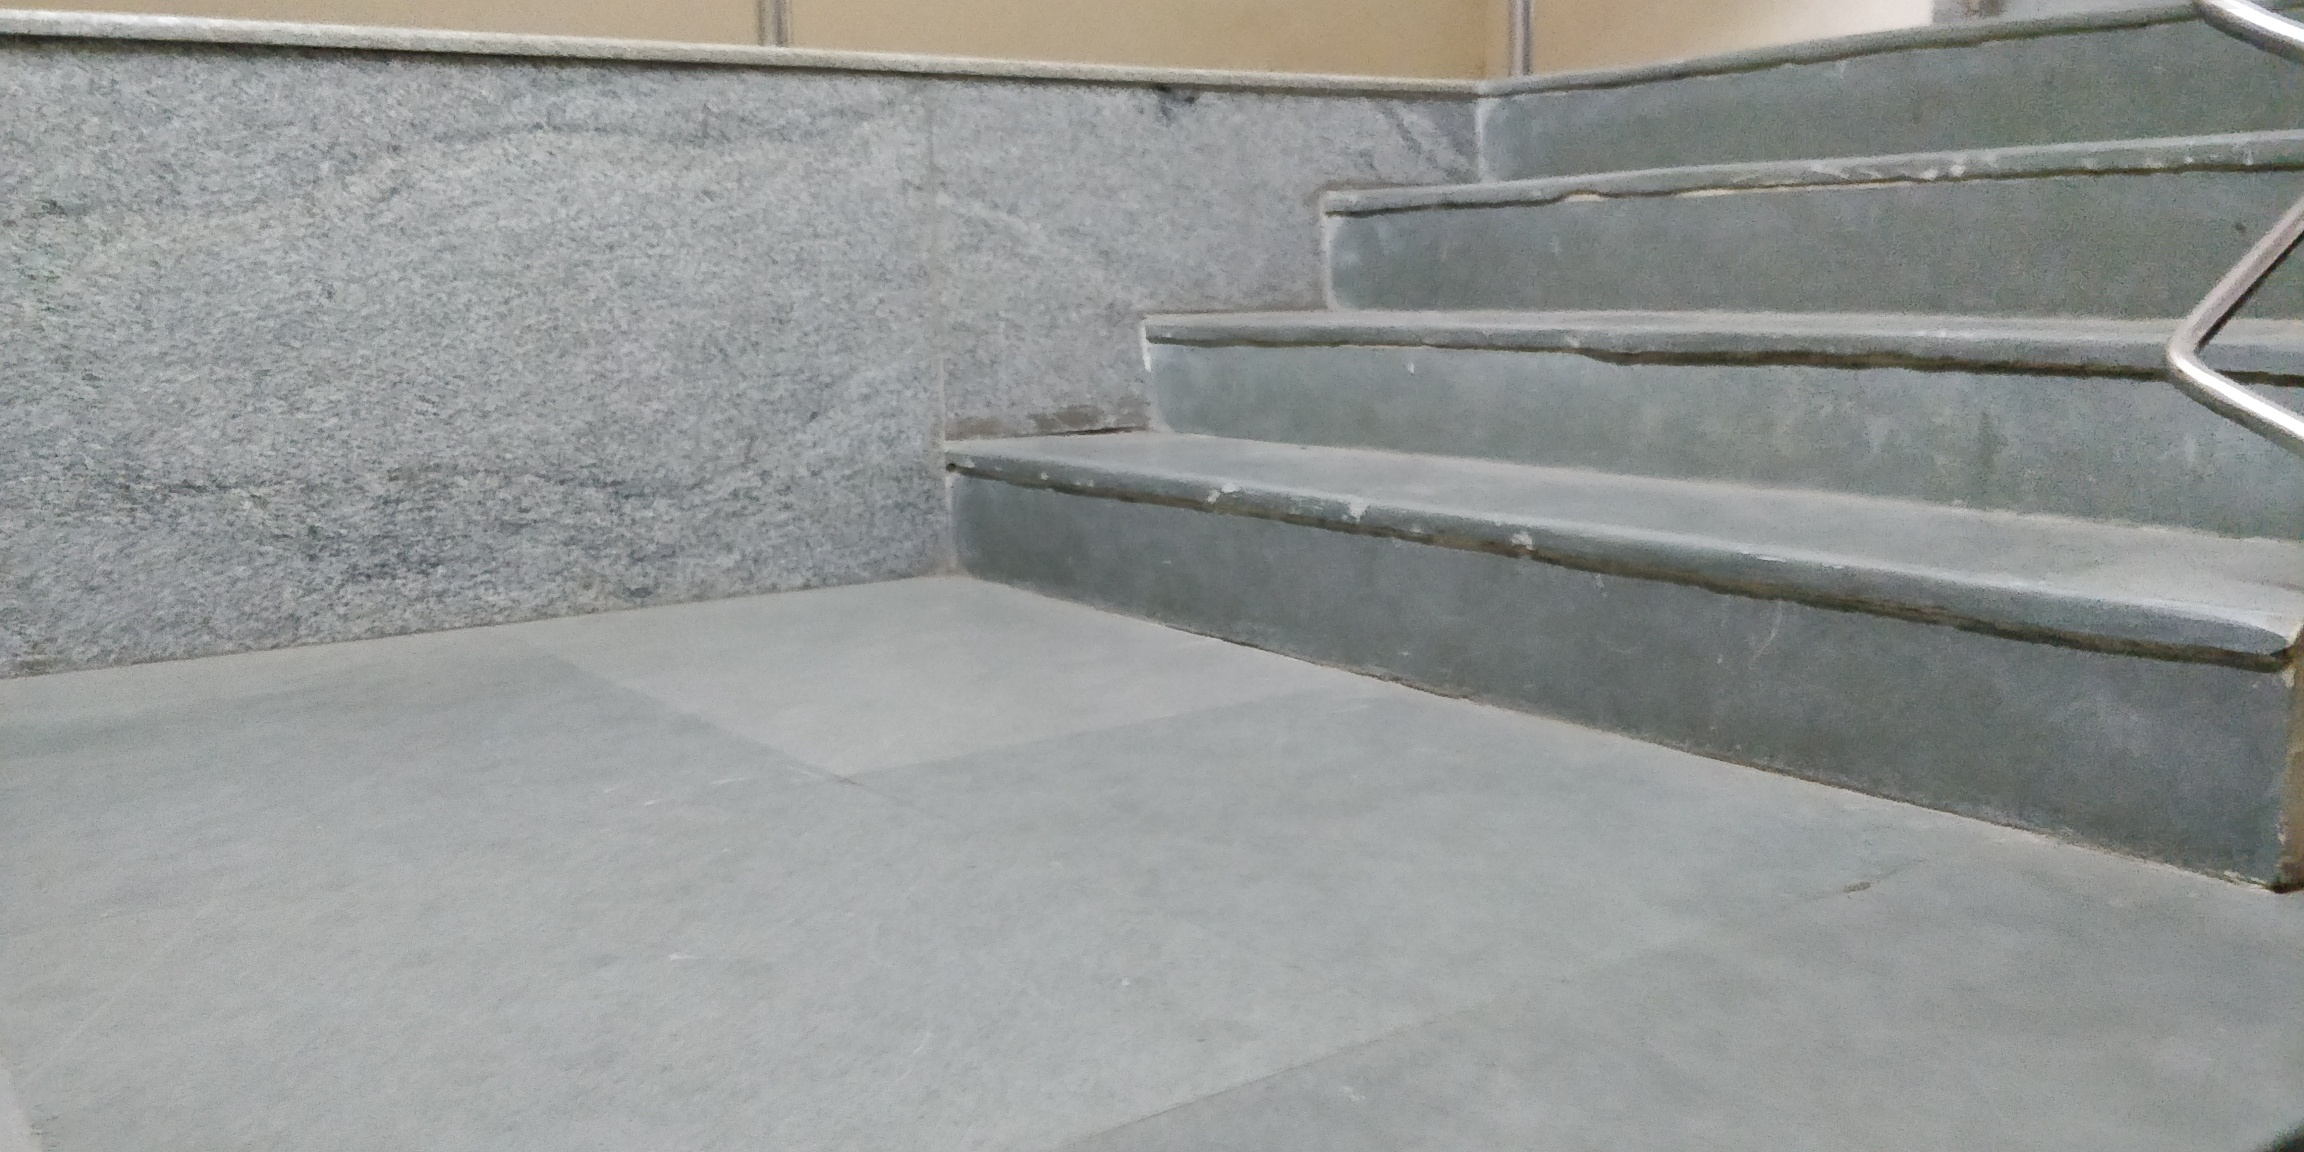stairs_up: (962, 29, 2228, 863)
